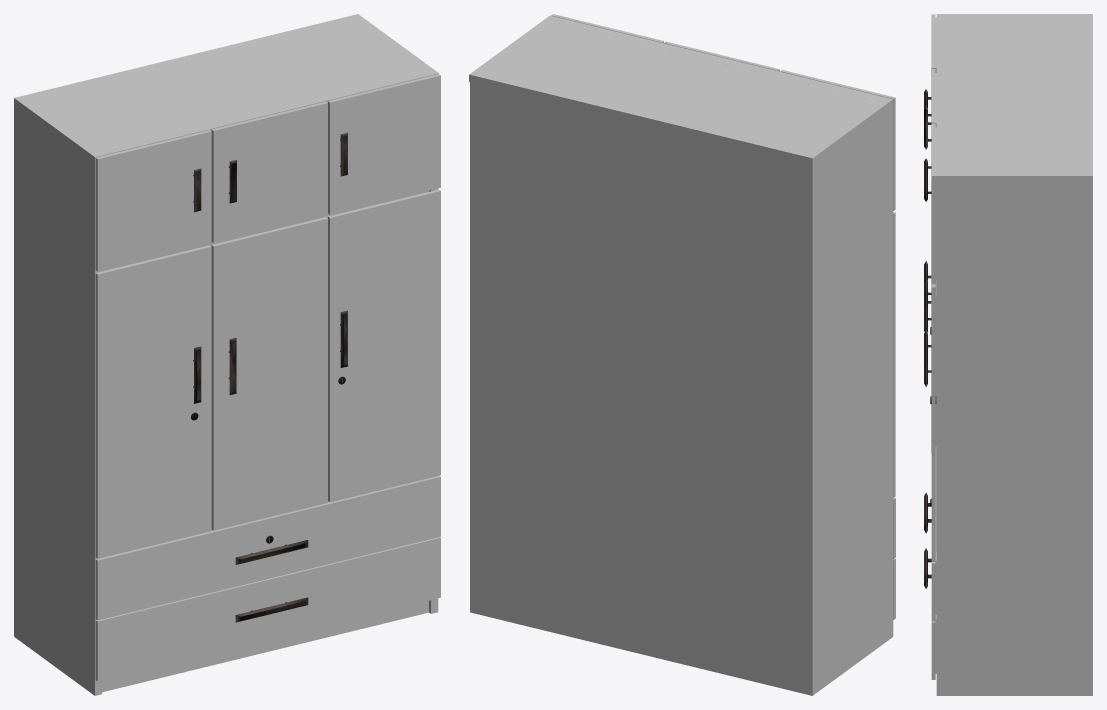
File: wardrobe.obj
3 views of the same model, side by side, from view 1: azimuth 30°, elevation 25°; view 2: azimuth 150°, elevation 25°; view 3: azimuth 270°, elevation 25° (orthographic). The views are drawn at different scales.
Visible parts, largest first — view 1: Cube_Cube.001, Cube.014_Cube.033, Cube.013_Cube.032, Cube.015_Cube.034, Cube.020_Cube.039, Cube.016_Cube.035, Cube.018_Cube.037, Cube.006_Cube.026, Cube.007_Cube.027, Cube.008_Cube.028, Cube.001_Cube.012, Cube.009_Cube.011; view 2: Cube.009_Cube.011, Cube_Cube.001, Cube.020_Cube.039, Cube.001_Cube.012, Cube.021_Cube.040, Cube.013_Cube.032, Cube.006_Cube.026; view 3: Cube.002_Cube.003, Cube.020_Cube.039, Cube.001_Cube.012, Cube.015_Cube.034, Cube.009_Cube.011, Cube.021_Cube.040, Cube.008_Cube.028, Cube.016_Cube.035, Cube.013_Cube.032, Cube.006_Cube.026, Cube.018_Cube.037, Cube.007_Cube.027.
Part boxes in pixels (box(x1,y1,x2,y2)): Cube_Cube.001: box(14, 98, 101, 695); Cube.014_Cube.033: box(211, 217, 327, 530); Cube.013_Cube.032: box(95, 245, 211, 558); Cube.015_Cube.034: box(328, 189, 440, 502); Cube.020_Cube.039: box(16, 14, 438, 156); Cube.016_Cube.035: box(95, 476, 440, 620); Cube.018_Cube.037: box(95, 537, 440, 681); Cube.006_Cube.026: box(95, 130, 211, 271); Cube.007_Cube.027: box(211, 101, 327, 242); Cube.008_Cube.028: box(328, 74, 440, 214); Cube.001_Cube.012: box(89, 69, 435, 693); Cube.009_Cube.011: box(15, 14, 356, 98); Cube.009_Cube.011: box(470, 73, 812, 695); Cube_Cube.001: box(812, 99, 893, 695); Cube.020_Cube.039: box(469, 15, 891, 165); Cube.001_Cube.012: box(545, 17, 891, 640); Cube.021_Cube.040: box(470, 605, 812, 695); Cube.013_Cube.032: box(893, 212, 895, 497); Cube.006_Cube.026: box(780, 70, 895, 210); Cube.002_Cube.003: box(936, 183, 1092, 695); Cube.020_Cube.039: box(936, 14, 1092, 183); Cube.001_Cube.012: box(940, 14, 948, 688); Cube.015_Cube.034: box(931, 280, 936, 561); Cube.009_Cube.011: box(1085, 14, 1092, 175); Cube.021_Cube.040: box(940, 688, 1092, 695); Cube.008_Cube.028: box(931, 123, 936, 284); Cube.016_Cube.035: box(931, 447, 936, 621); Cube.013_Cube.032: box(931, 176, 936, 453); Cube.006_Cube.026: box(931, 14, 936, 175); Cube.018_Cube.037: box(931, 615, 936, 679); Cube.007_Cube.027: box(931, 69, 936, 127).
Size of the model in its own units: 48.13 by 72.01 by 21.16.
